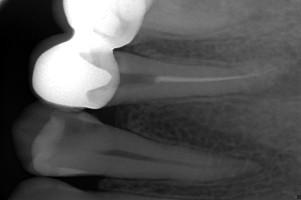Furcation Involvement: (257, 57, 301, 97)
